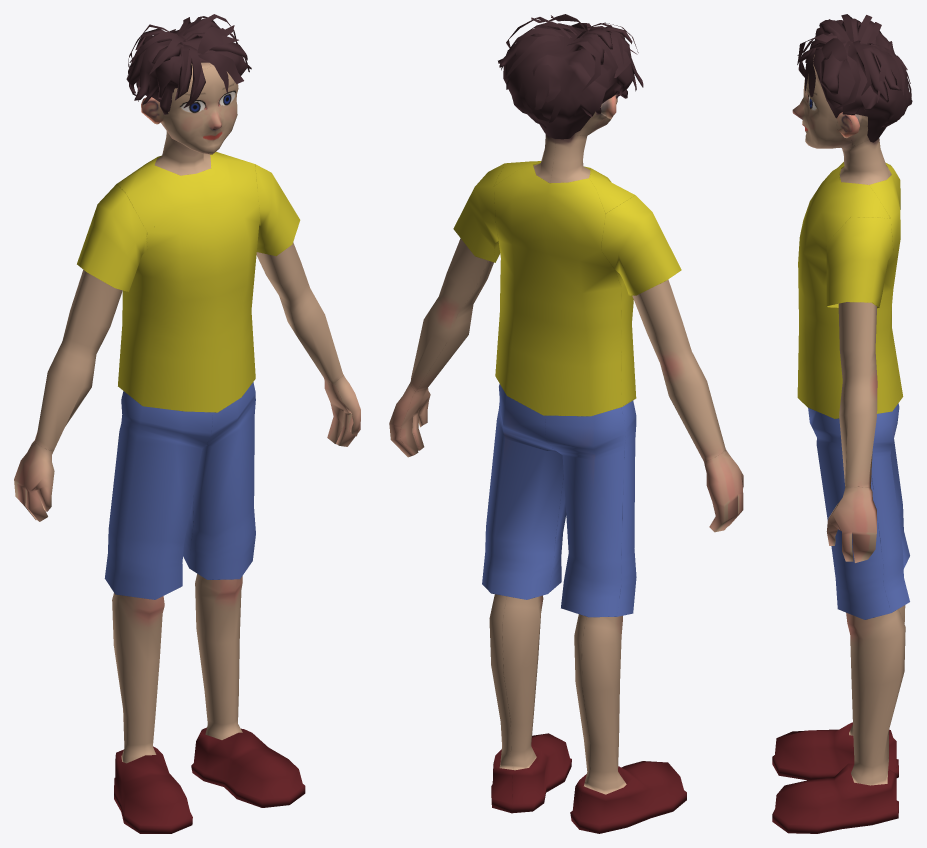
File: hero_texturing.fbx
3 renders of one model, left to right at view 1: azimuth 30°, elevation 25°; view 2: azimuth 150°, elevation 25°; view 3: azimuth 270°, elevation 25°, orthographic. The views are drawn at different scales.
Parts seen in each view (by area): view 1: hero body, hair; view 2: hero body, hair; view 3: hero body, hair.
Boxes of the visible parts, x1,y1,x2,y2 form: hero body: (14,62,360,833); hair: (126,14,251,114); hero body: (389,94,743,833); hair: (498,14,643,139); hero body: (772,54,909,833); hair: (797,14,912,142).
Bounding box in the file's own units: 536 × 1187 × 198.
Materials: 2 (1 with a texture image).
